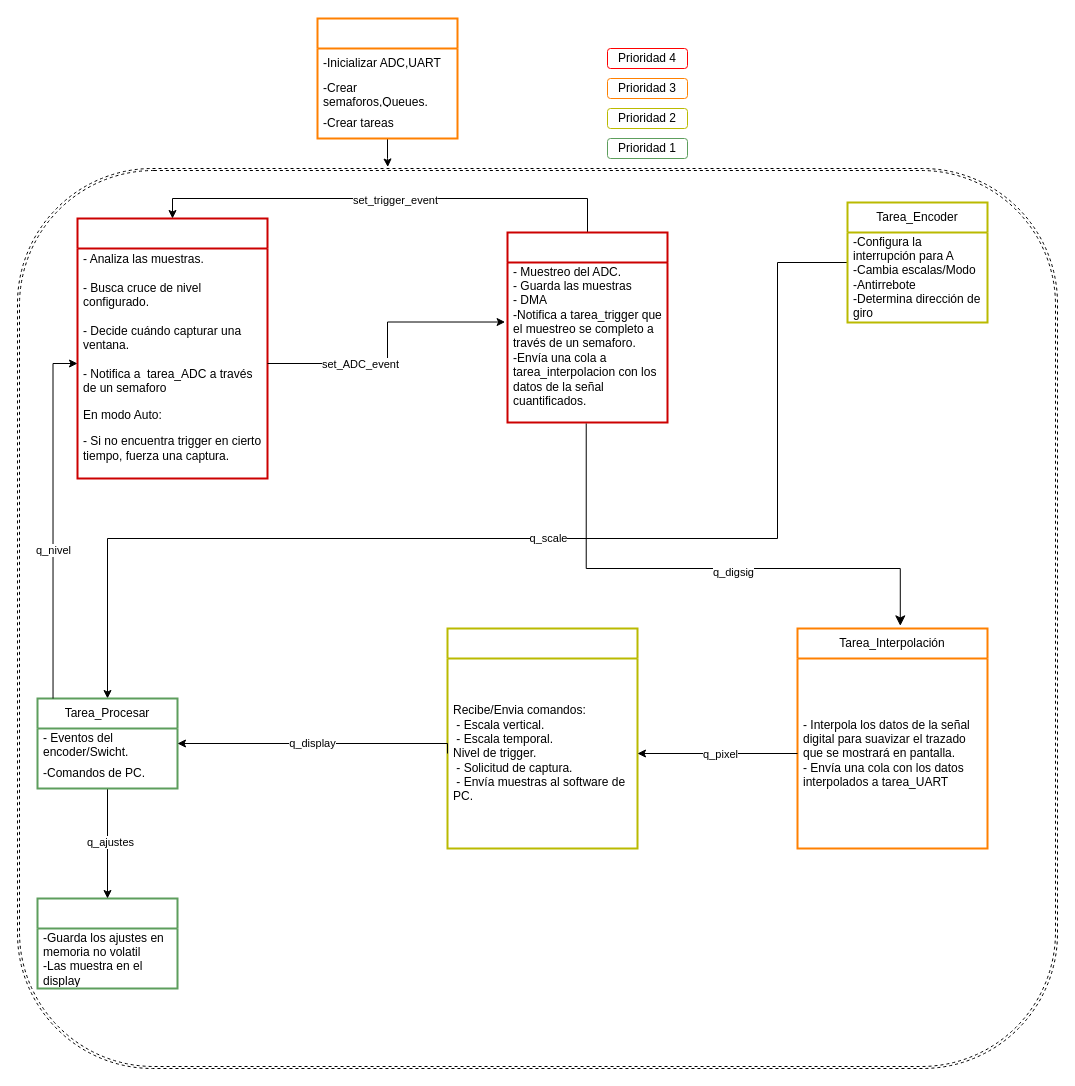
The diagram is 1075 pixels wide and 1086 high, and some of its shapes have lost their labels. The shapes that lost their labels are listed below. From the top down, each one's box as (x1, y1, x2, y2) in pixels, then its label:
(316, 17, 458, 139): Tarea_Main
(506, 231, 668, 423): Tarea_ADC
(76, 217, 268, 479): Tarea_trigger
(446, 627, 638, 849): Tarea_UART
(36, 897, 178, 989): Tarea_Configuración
